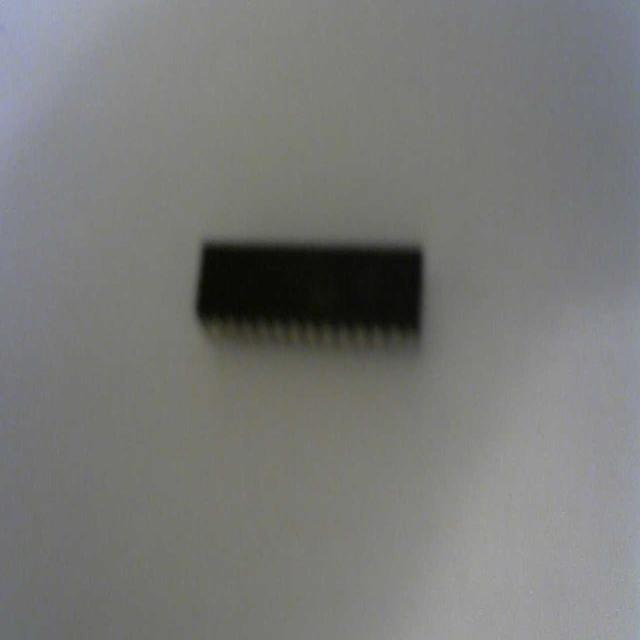atmega: (192, 232, 426, 358)
